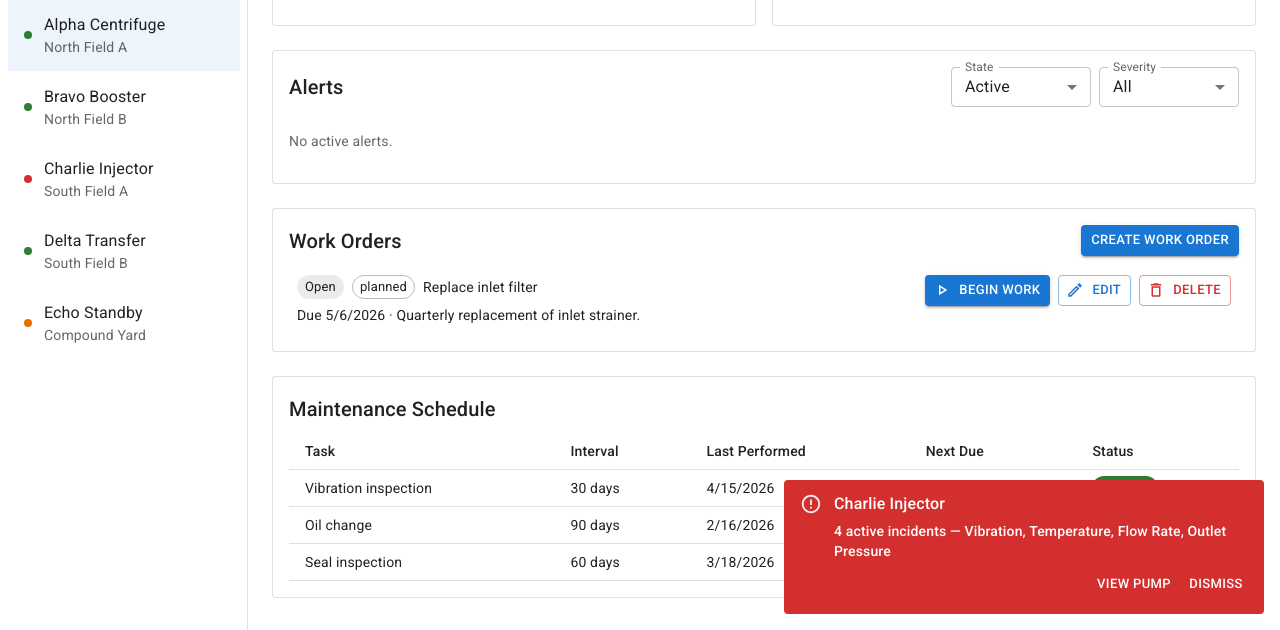
Test: Fleet integration › starts and completes a work order from the row actions
This screenshot has width=1280, height=630.
(page scrolled)
Click the button named "begin-" at (988,290), box x1=925 y1=275 x2=1050 y2=306
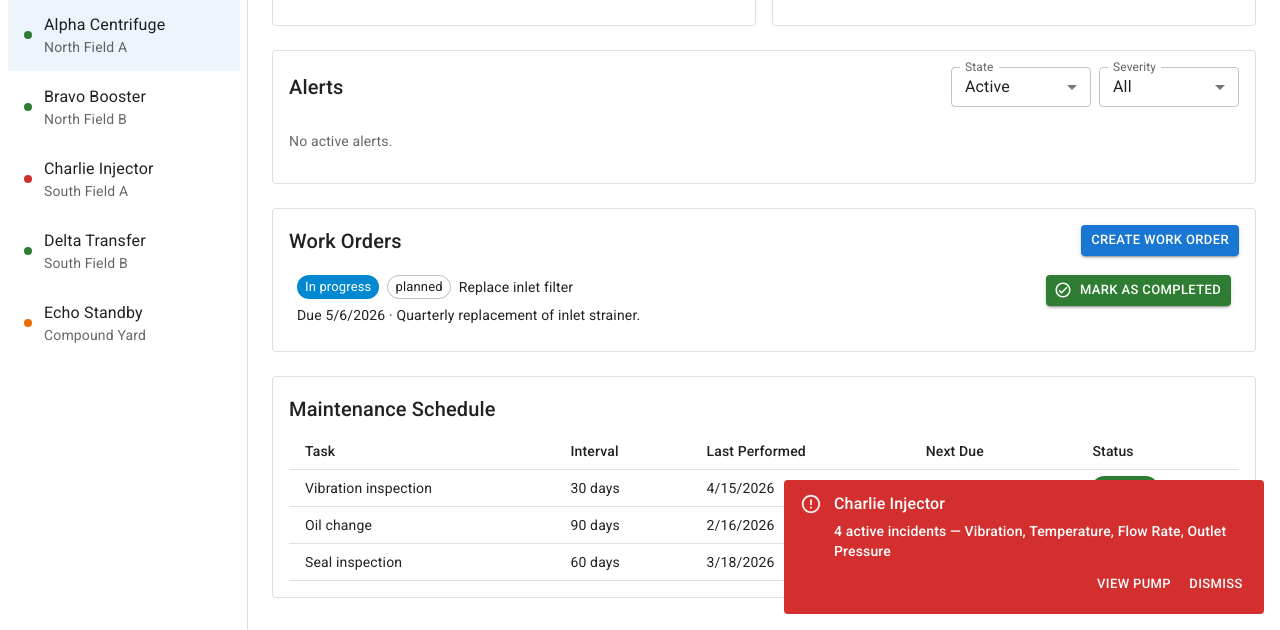
Result: the text "In progress" is shown at x1=305 y1=279 x2=372 y2=294
Click the button named "complete-" at (1138,290), box x1=1046 y1=275 x2=1231 y2=306
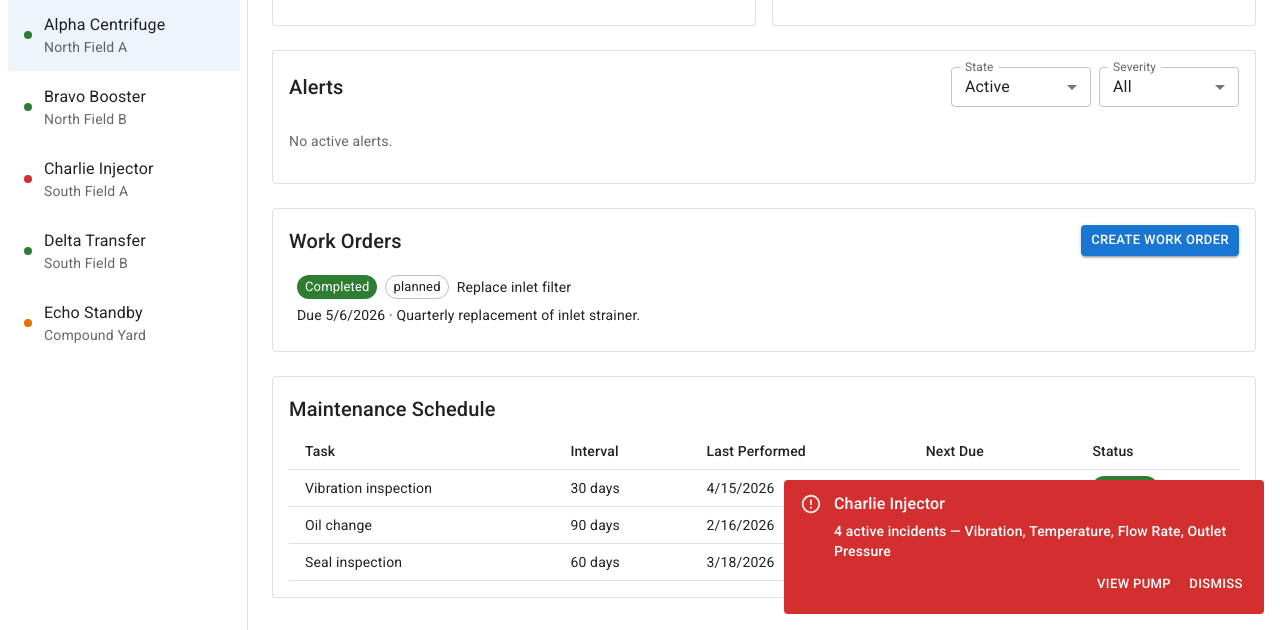
Result: the text "Completed" is shown at x1=305 y1=279 x2=370 y2=294
